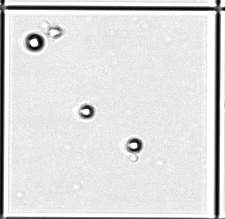Living Cell: (25, 33, 44, 52), (79, 104, 95, 120), (126, 138, 143, 153)
